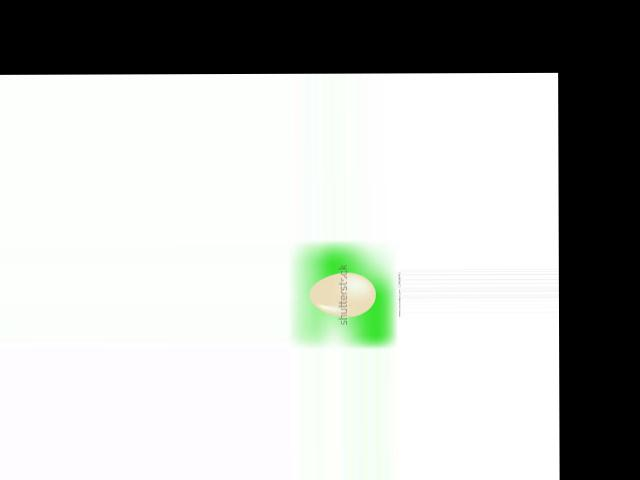egg: (309, 272, 375, 316)
